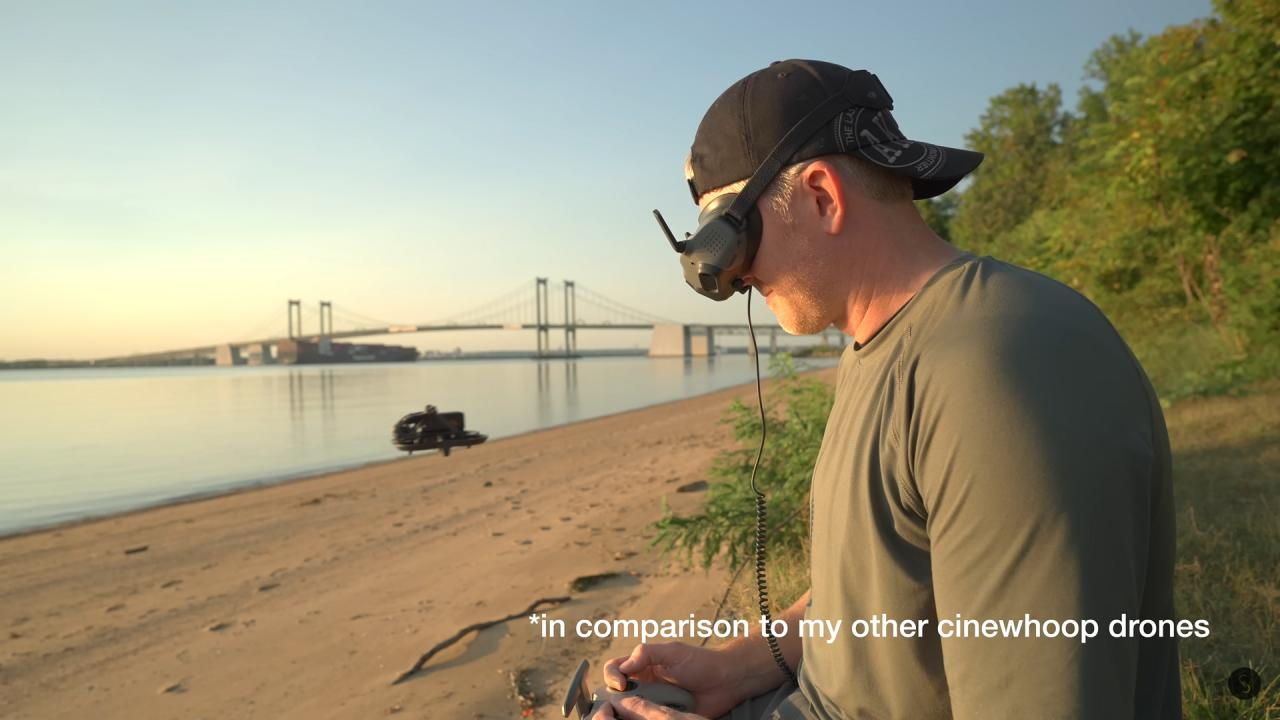Drone: (381, 393, 503, 468)
